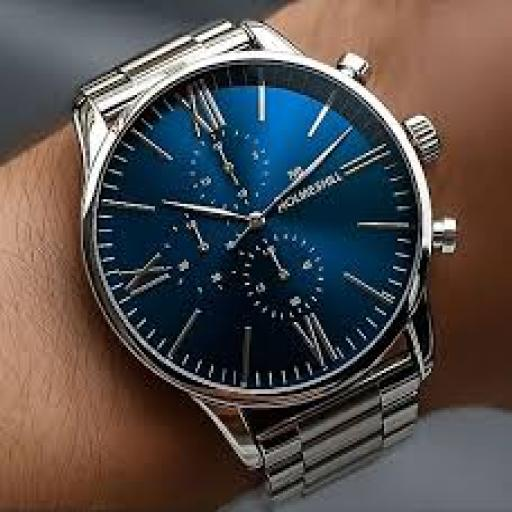KolSaati: (52, 2, 464, 495)
